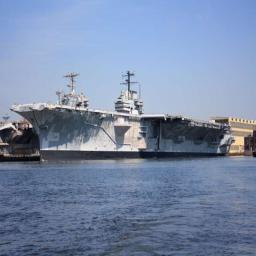Portanaves: (10, 65, 237, 167)
